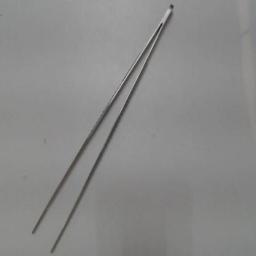DeBakey Dissector: (25, 0, 175, 252)
